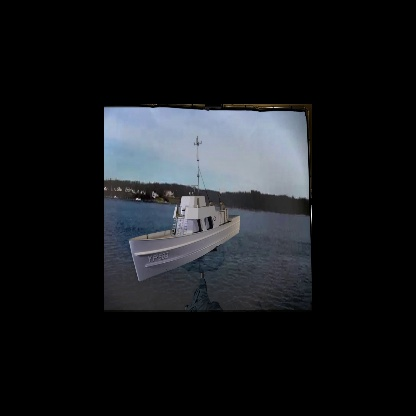YP689: (129, 138, 241, 283)
